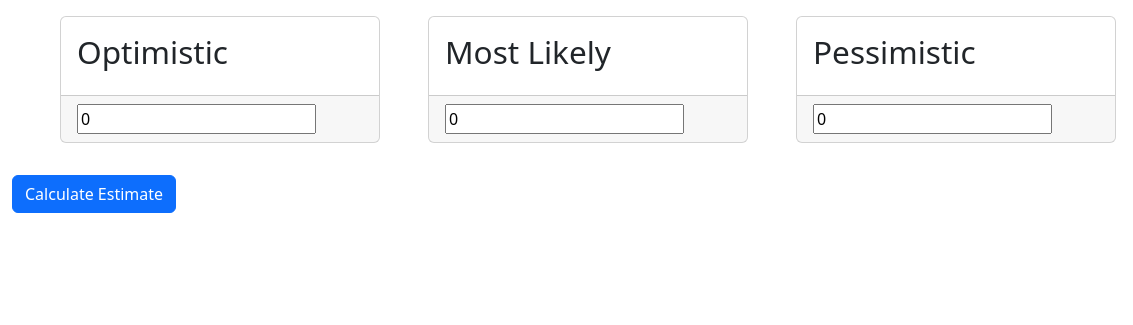
InputField › should display a save button when the calculate button is pressed
Click the button with test id "calculateButton" at (94, 194), box 12,175 -> 176,213
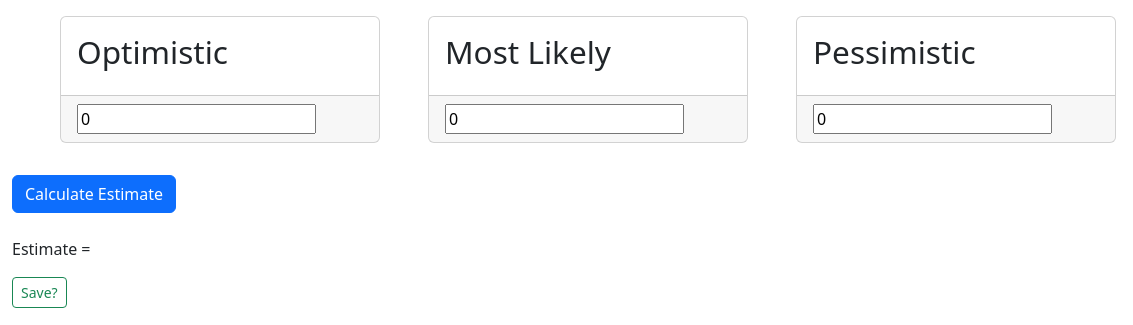
Now the number of buttons with test id "saveButton" is 1, box 12,277 -> 67,308
